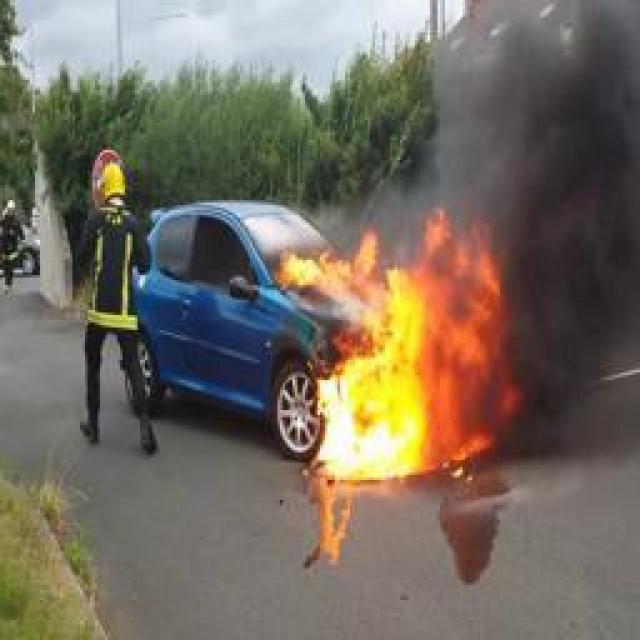Fire: (314, 206, 526, 484), (275, 230, 375, 290)
